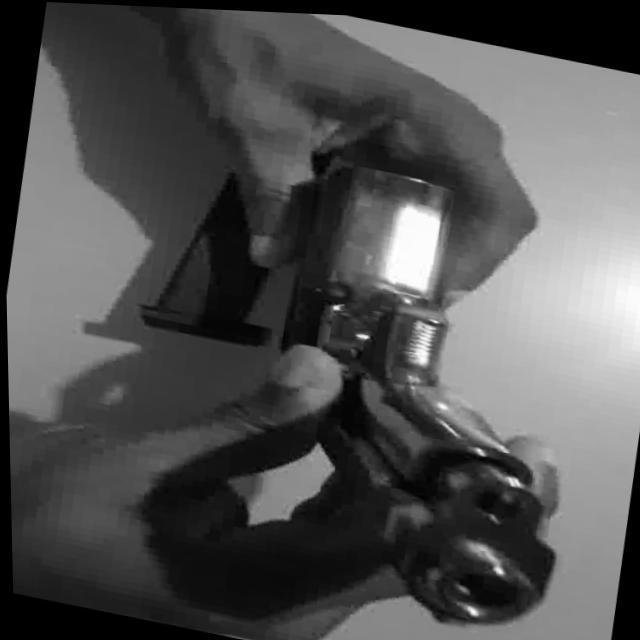weapon: (93, 95, 614, 640)
